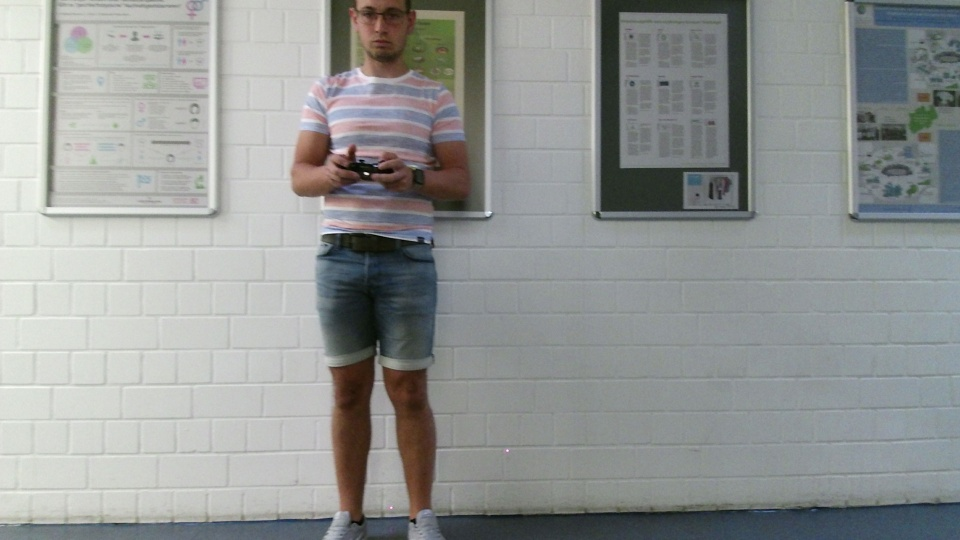person: (274, 1, 481, 540)
